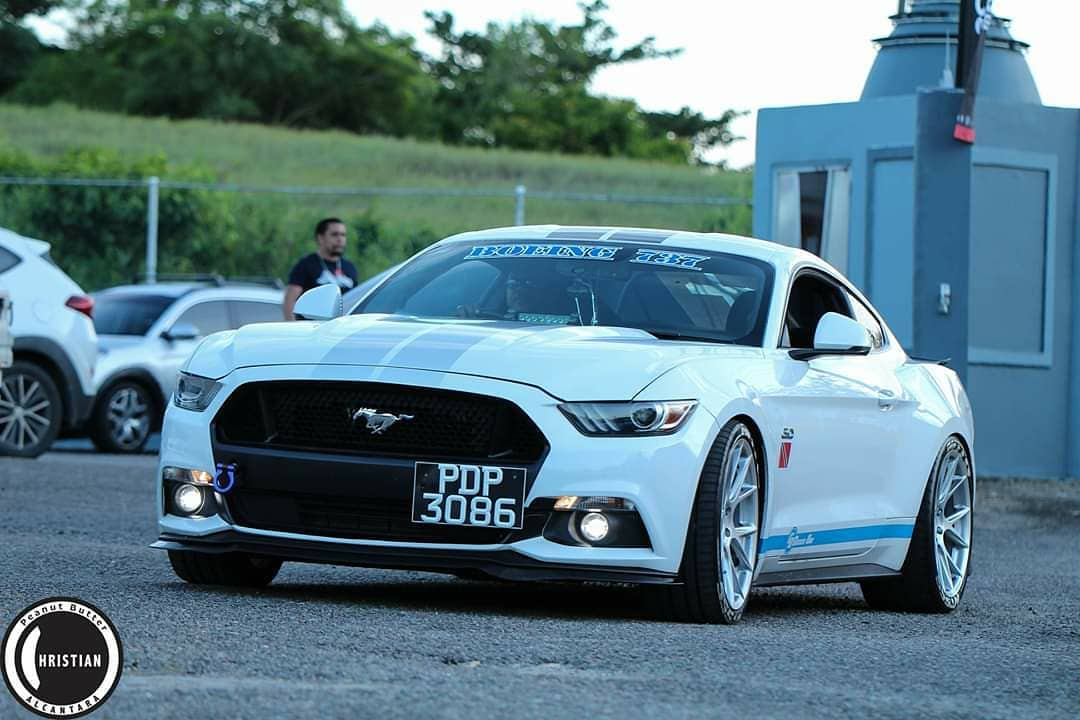License-Plate: (416, 460, 525, 523)
